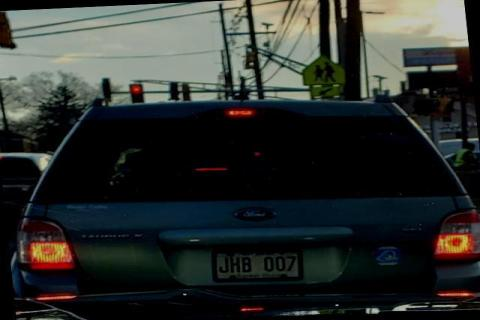LicensePlate: (210, 246, 302, 281)
